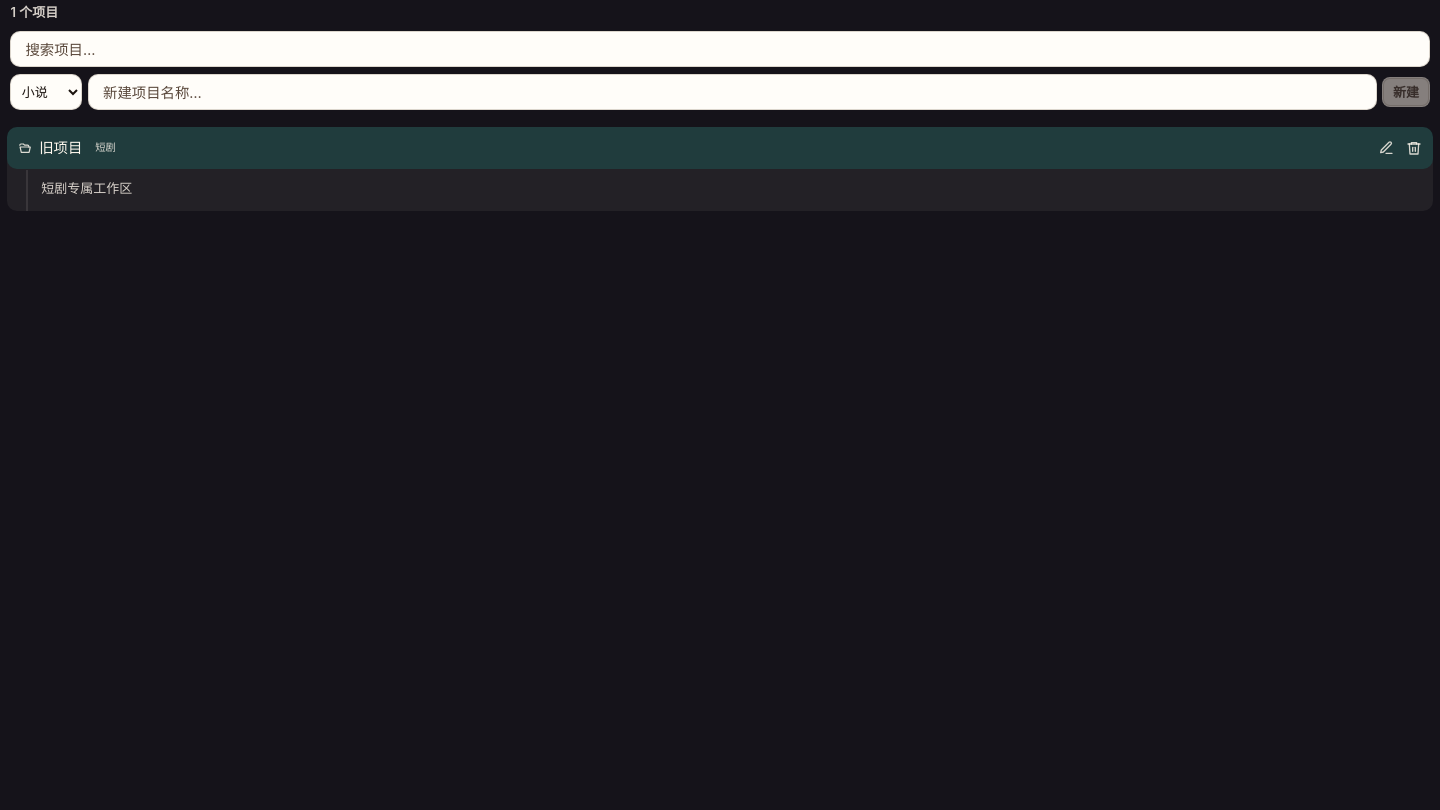
Scenario: ProjectTree › notifies the parent after a project is renamed
Expected: the text "旧项目" is shown, [39, 136, 82, 160]
Click the button named "重命名 旧项目".
click(1386, 148)  # box [1372, 135, 1399, 162]
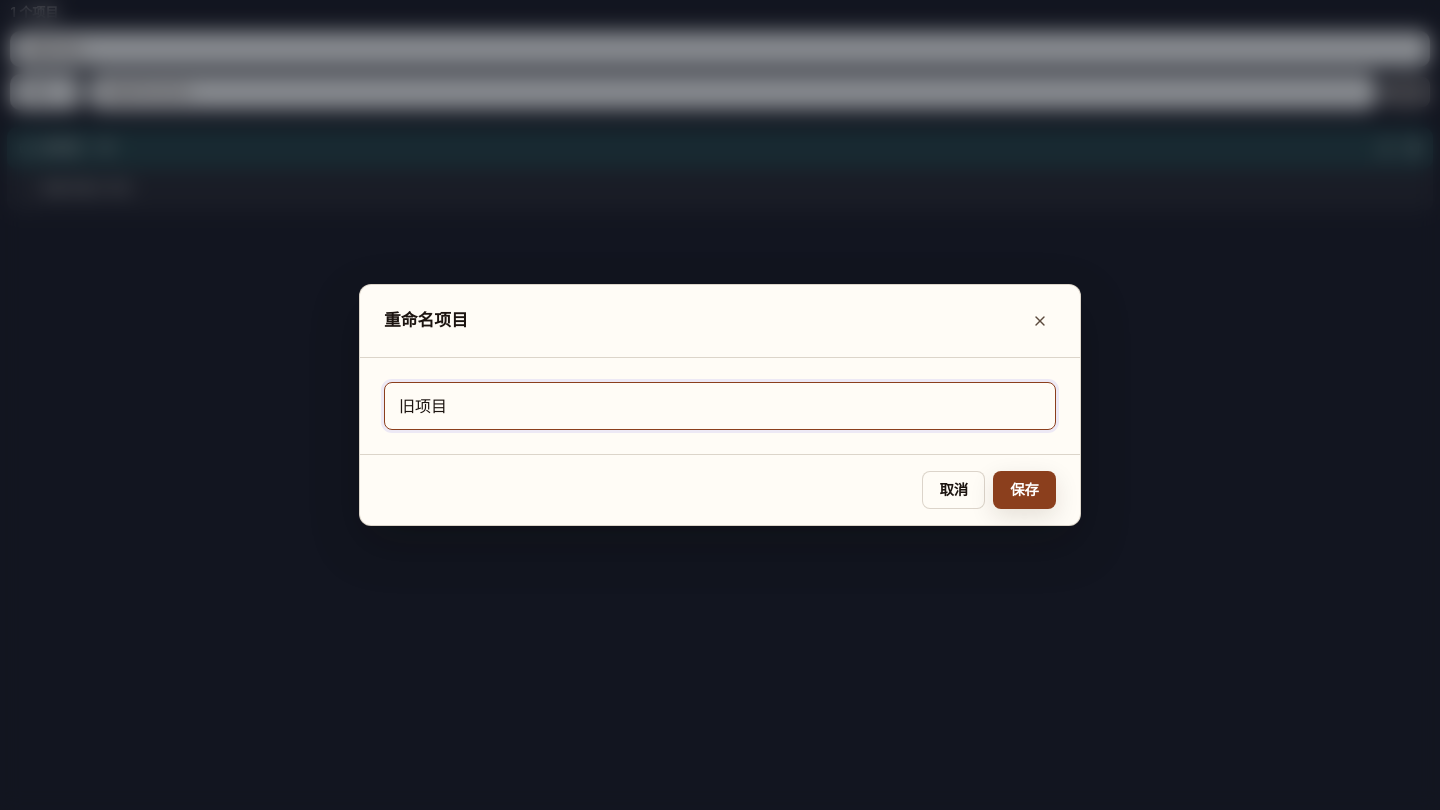
Replace the text in the field with "新项目名" at (720, 406), box [384, 382, 1056, 430]
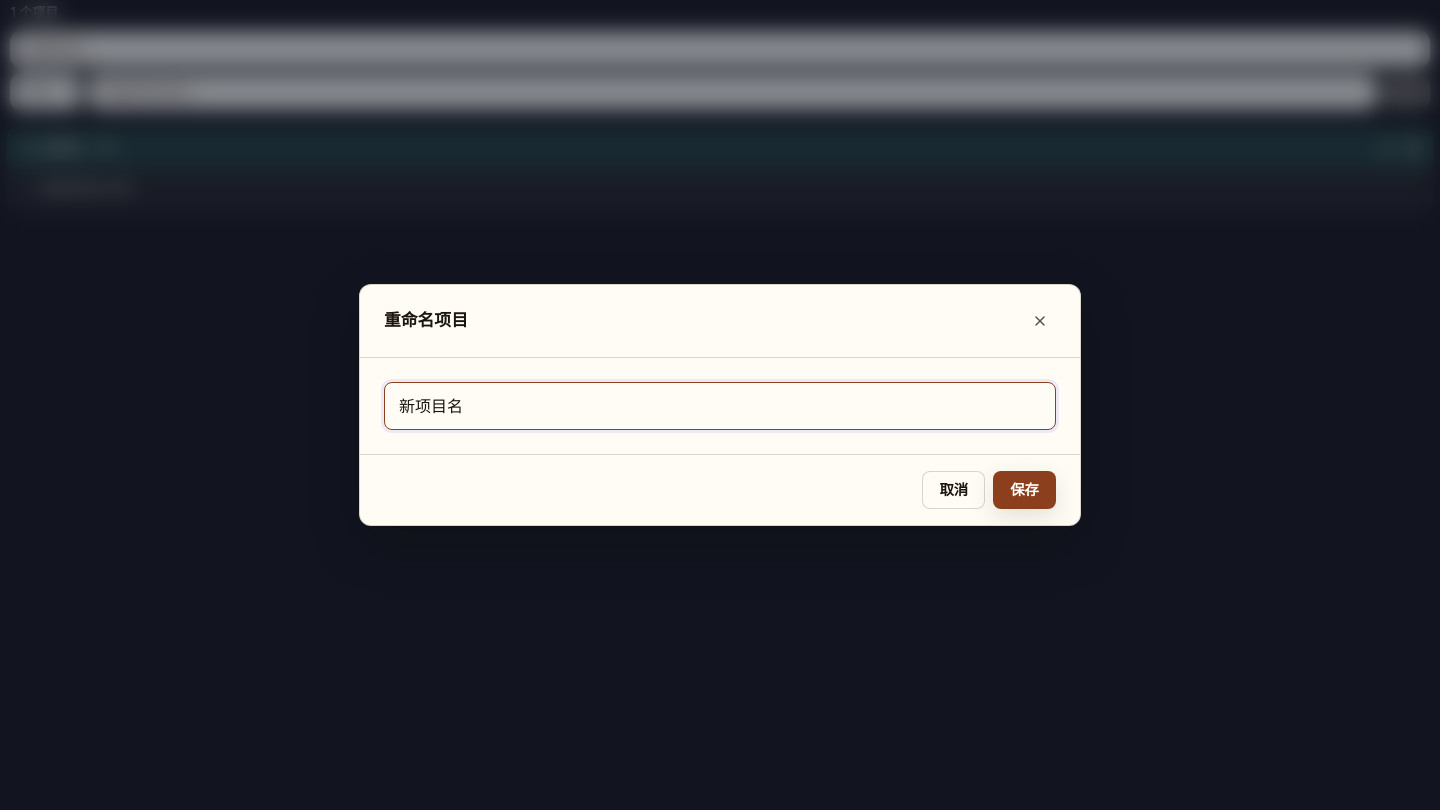
Click the button "保存".
click(1025, 490)  # box [993, 471, 1056, 509]
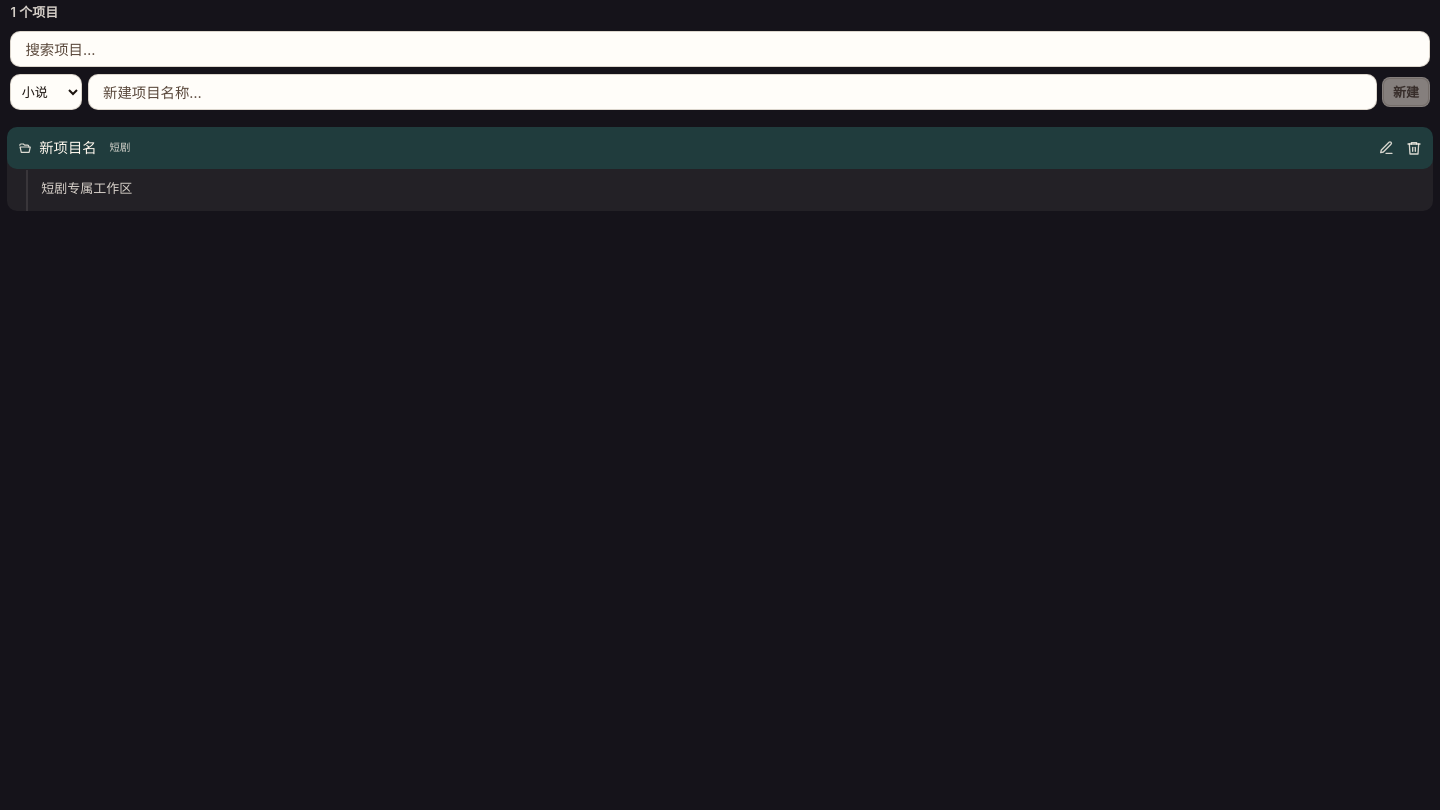
Expected: the text "新项目名" is shown, [39, 136, 97, 160]
